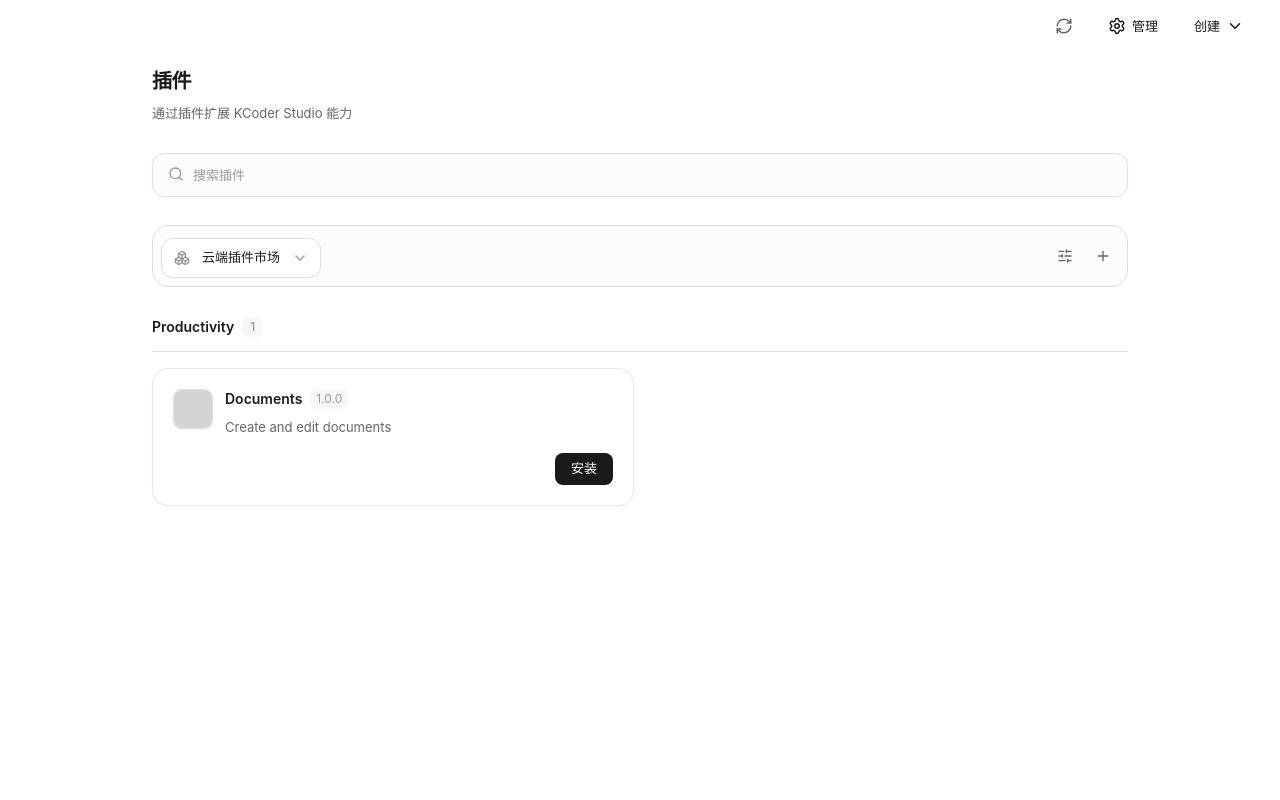
PluginsWorkspace › installs a marketplace plugin
The width and height of the screenshot is (1280, 800).
Check: the heading "Documents" is shown, box top-left (225, 389), bottom-right (302, 409)
Click the button with test id "plugin-marketplace-install-101" at x=584, y=469, box top-left (555, 453), bottom-right (613, 485)
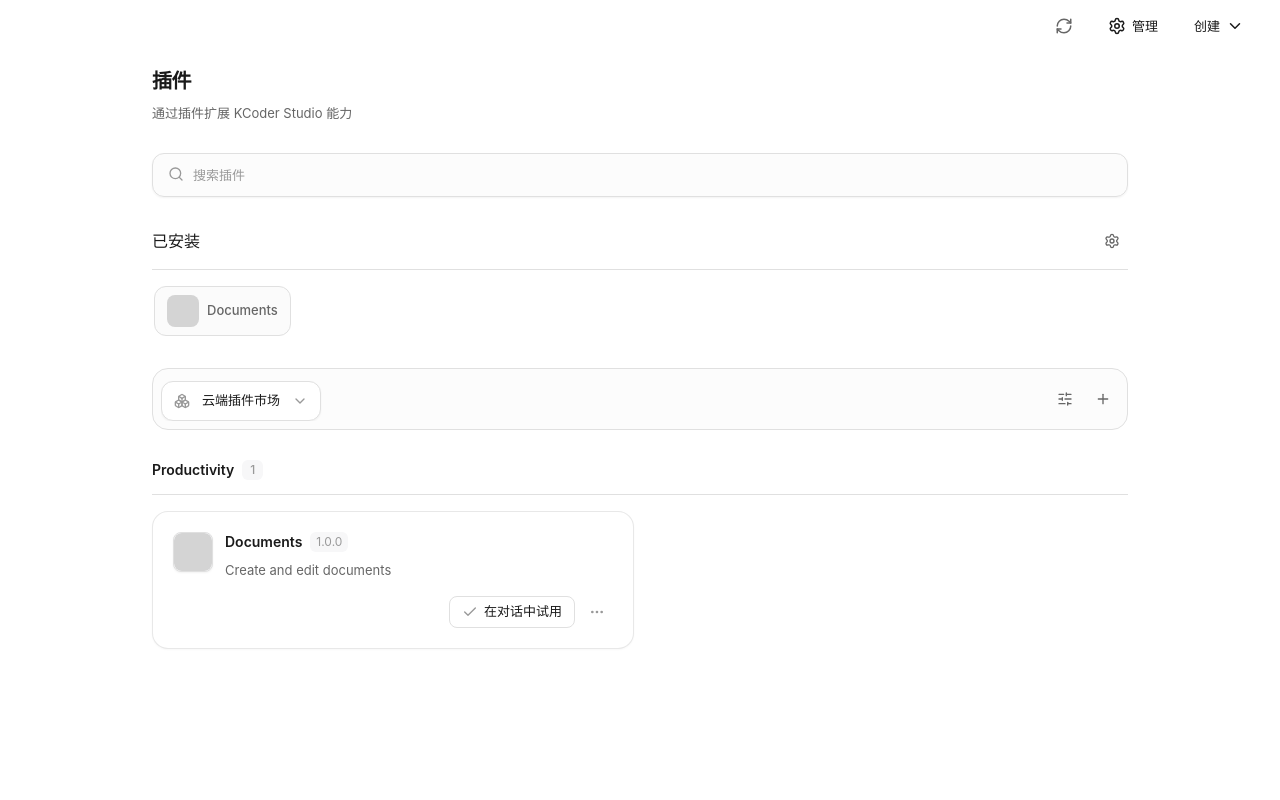
Check: the button with test id "plugin-marketplace-install-101" is enabled, box top-left (449, 596), bottom-right (575, 628)
Check: the button with test id "plugin-marketplace-install-101" reads "在对话中试用", box top-left (449, 596), bottom-right (575, 628)
